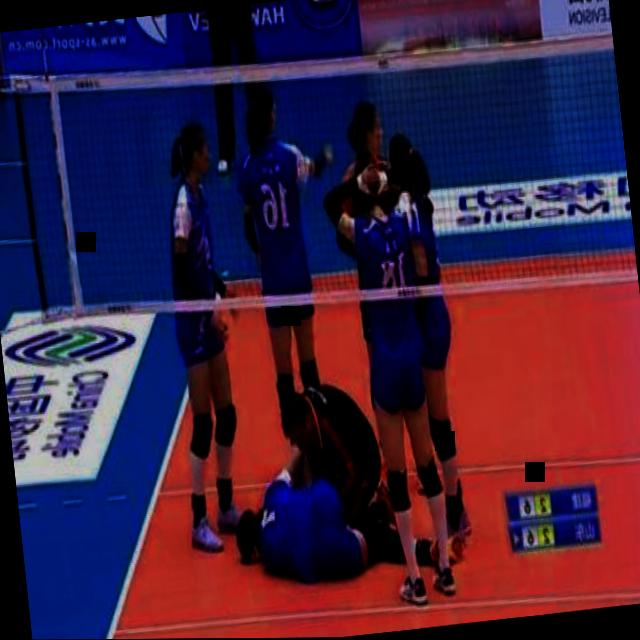Fall-Detected: (224, 436, 453, 597)
